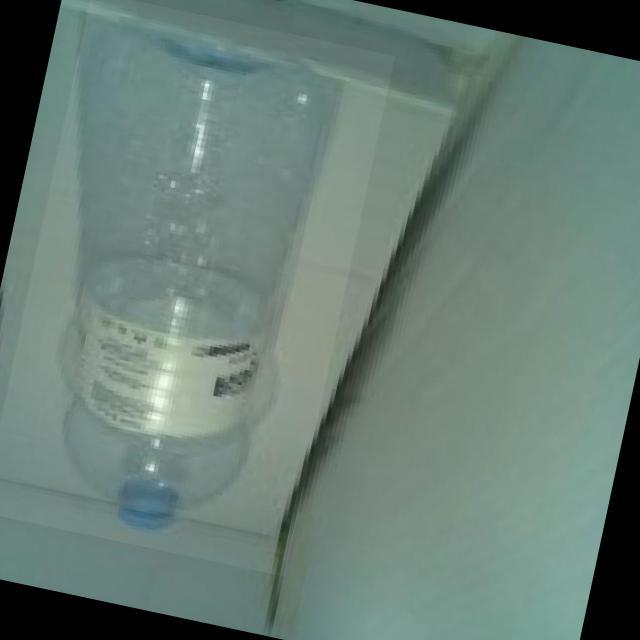good: (0, 0, 394, 576)
